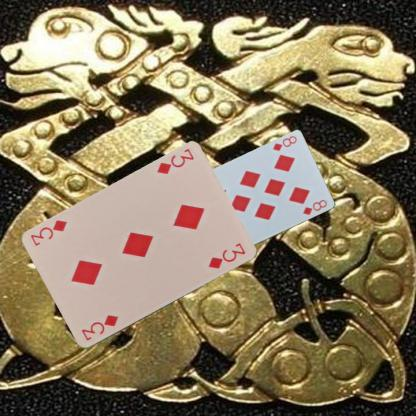3d: (78, 312, 119, 343), (154, 146, 196, 176)
8d: (270, 134, 297, 152)
